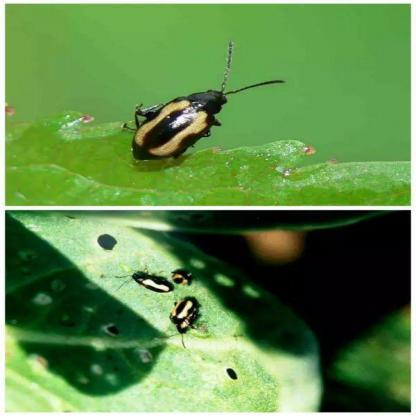beetle: (132, 41, 282, 162), (164, 286, 202, 336), (132, 266, 180, 299)
